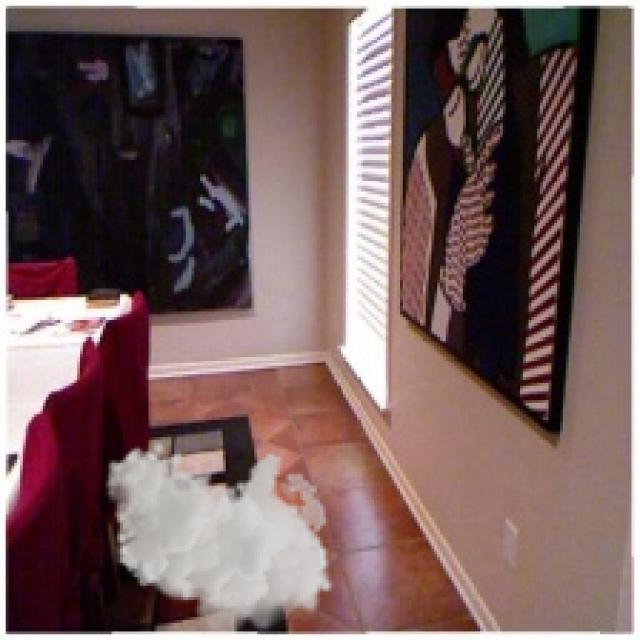smoke: (106, 440, 337, 637)
